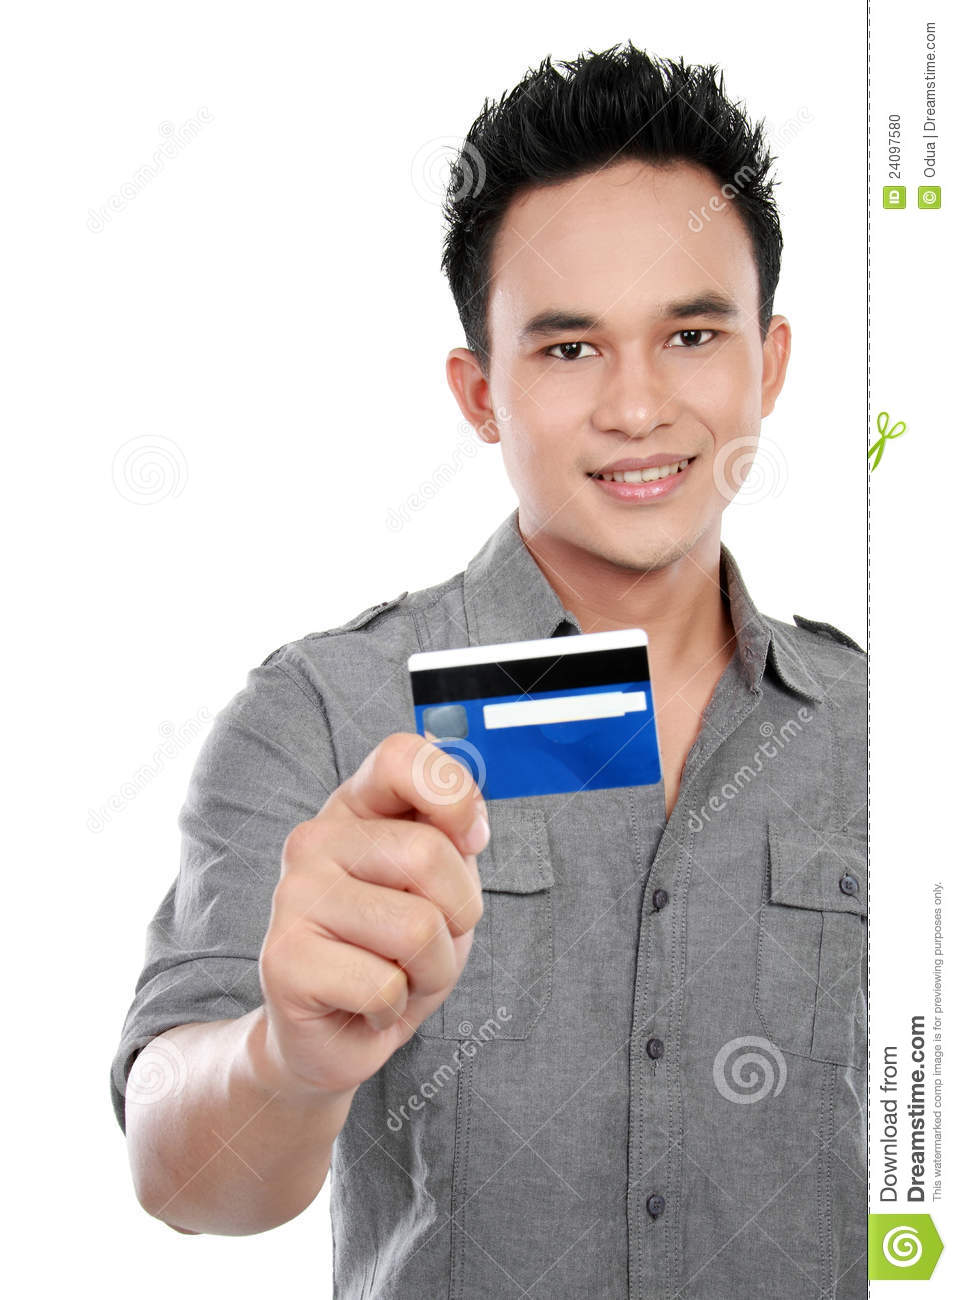tarjeta: (405, 624, 663, 801)
